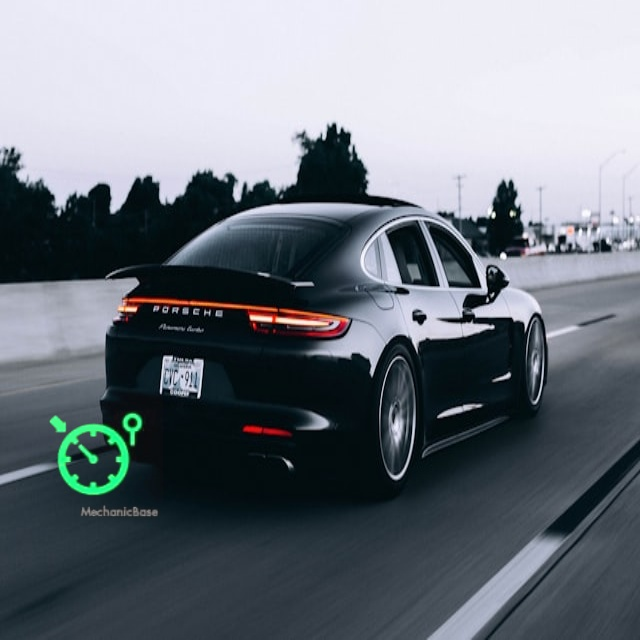symbol: (28, 388, 163, 523)
